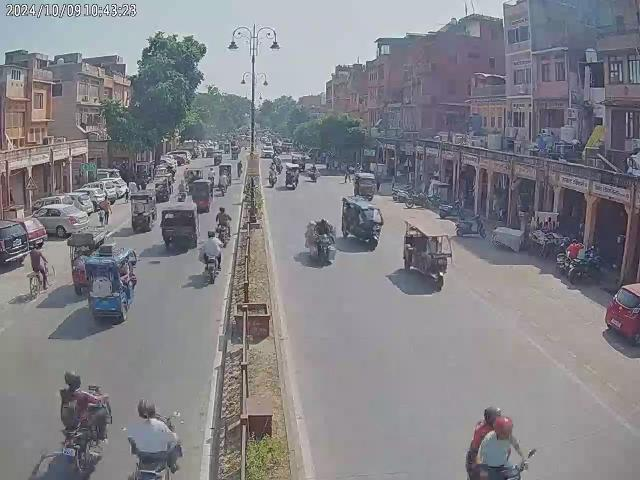auto: (83, 244, 138, 324), (402, 219, 455, 292), (341, 193, 384, 251), (159, 202, 199, 253), (128, 192, 156, 232), (193, 178, 213, 214), (353, 172, 377, 200), (153, 176, 172, 202), (284, 163, 300, 189)
bicycle-rider: (26, 244, 56, 300)
car: (32, 204, 87, 237)
helmet: (490, 415, 514, 442), (482, 406, 506, 426), (138, 399, 160, 420), (64, 372, 84, 389), (207, 230, 216, 238)
motorbike: (566, 256, 604, 284)
motorbike-rider: (56, 372, 112, 478), (125, 396, 183, 480), (304, 218, 336, 264), (199, 227, 224, 282), (215, 207, 232, 247)
person: (96, 196, 112, 226)
scooty: (454, 215, 488, 238), (438, 200, 466, 218)
scooty-rider: (462, 404, 536, 480)
